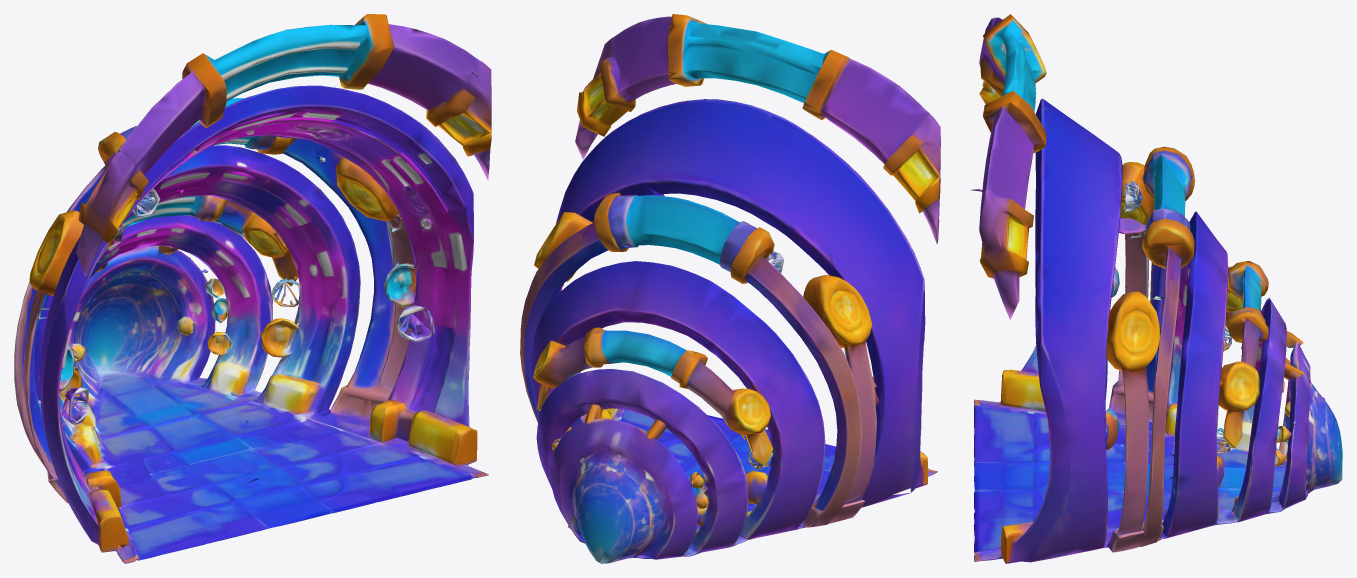
The model's file is Bubble_Wash_A2_Tunnel_Claude_2K.glb.
3 renders of one model, left to right at view 1: azimuth 30°, elevation 25°; view 2: azimuth 150°, elevation 25°; view 3: azimuth 270°, elevation 25°, orthographic. The views are drawn at different scales.
Visible parts, largest first — view 1: tripo_node_b0a6f634-5d5d-4c17-b3bb-ff5c159371c8; view 2: tripo_node_b0a6f634-5d5d-4c17-b3bb-ff5c159371c8; view 3: tripo_node_b0a6f634-5d5d-4c17-b3bb-ff5c159371c8.
Boxes of the visible parts, bbox=[...] form: tripo_node_b0a6f634-5d5d-4c17-b3bb-ff5c159371c8: bbox=[14, 14, 491, 563]; tripo_node_b0a6f634-5d5d-4c17-b3bb-ff5c159371c8: bbox=[520, 14, 940, 563]; tripo_node_b0a6f634-5d5d-4c17-b3bb-ff5c159371c8: bbox=[970, 14, 1342, 563].
Size of the model in its own units: 0.9158 by 0.9807 by 0.7724.
Materials: 1 (1 with a texture image).
